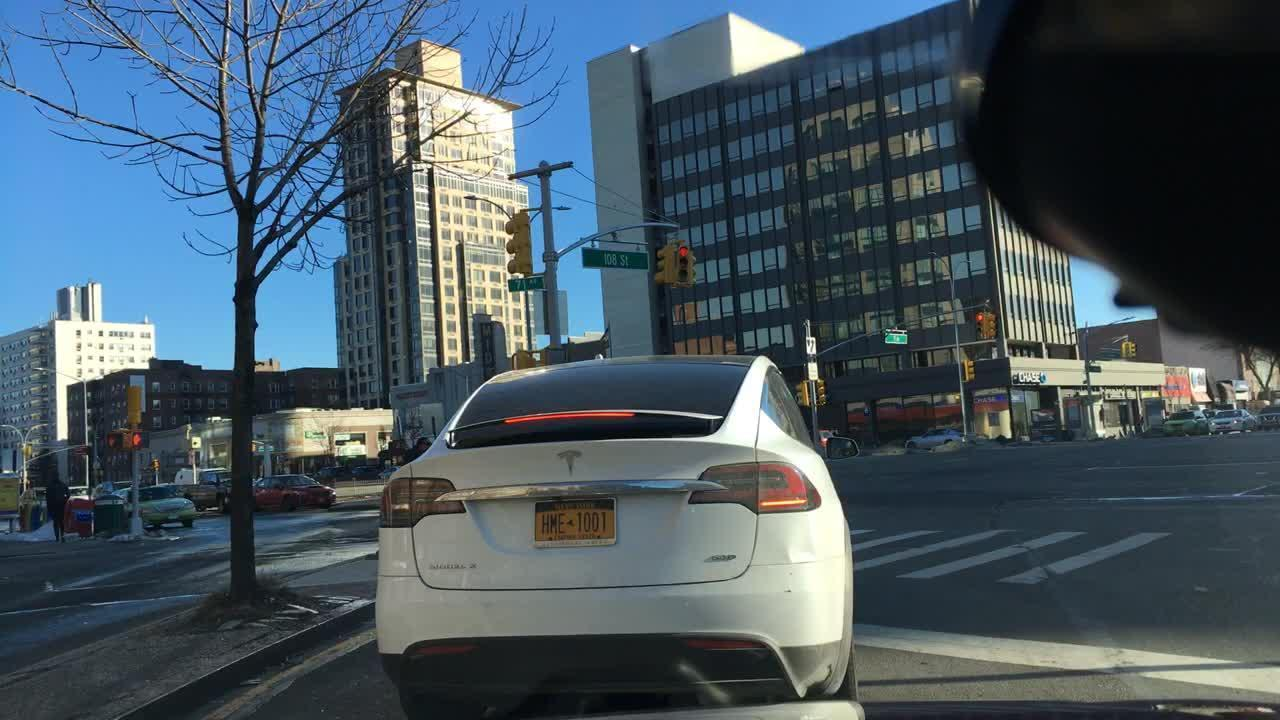no class: (554, 446, 585, 479)
